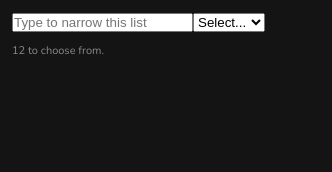
Test: a label written as a prop is searchable too
The image size is (332, 172).
Type "Ward 4" into the search field with test id "ward-search" at (102, 22), box [12,13,193,32]
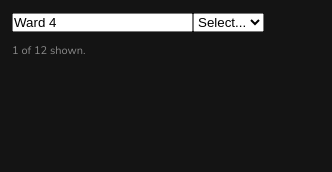
Expected: the text with test id "ward-count" shows "1 of 12 shown", [12,43,86,58]
